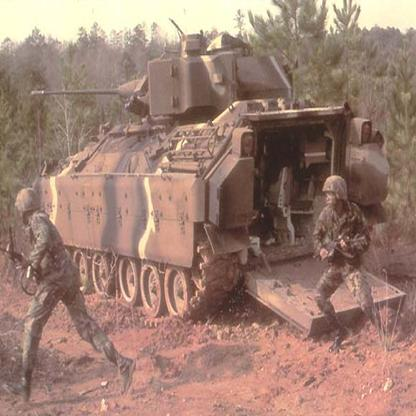Tank: (20, 29, 409, 347)
